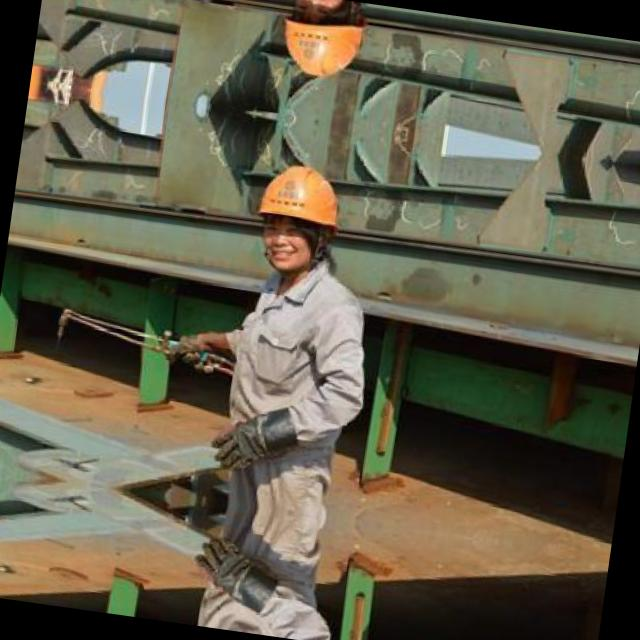helmet: (240, 147, 354, 288), (268, 0, 377, 95)
